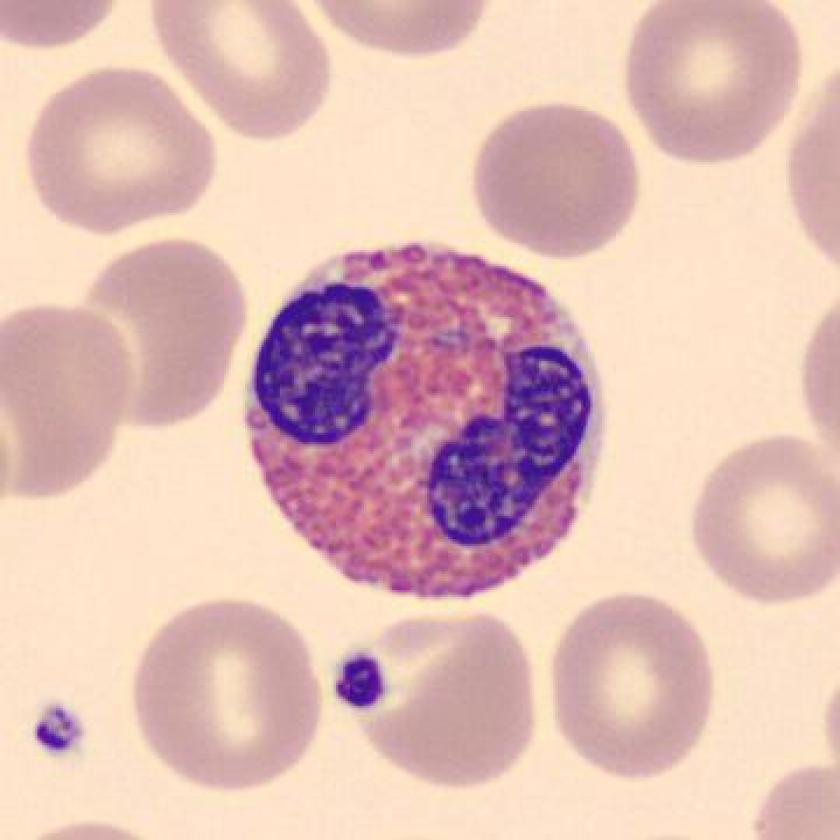eosinophil: (234, 230, 617, 610)
